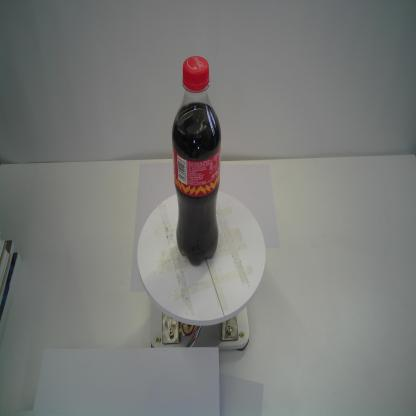Drink: (171, 55, 222, 268)
